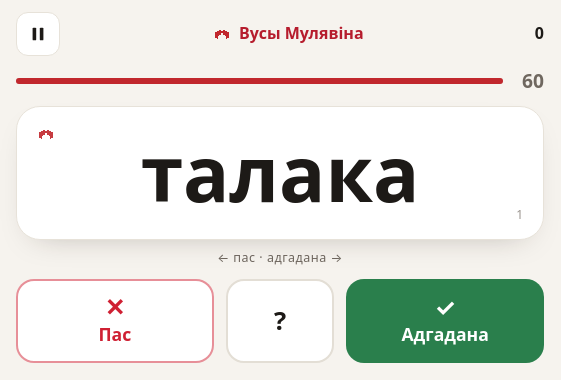
PlayScreen › падказка да слова › без прамога перакладу паказвае сціплае тлумачэнне па-беларуску
This screenshot has width=561, height=380.
Click the button named "Падказка".
click(280, 321)  # box top-left (226, 279), bottom-right (334, 363)
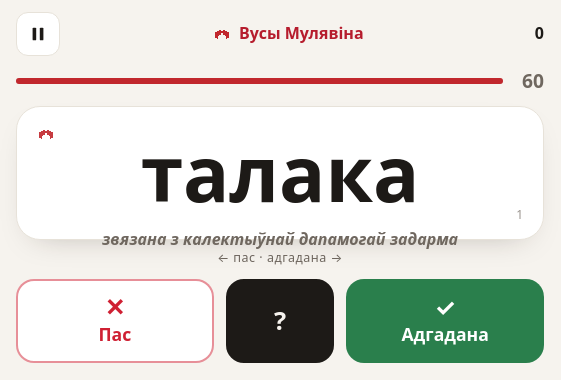
Expected: the element with class "card__hint" does not show "талак"
Result: the text with class "card__hint-note" reads "звязана з калектыўнай дапамогай задарма" at top-left (102, 228), bottom-right (458, 250)
